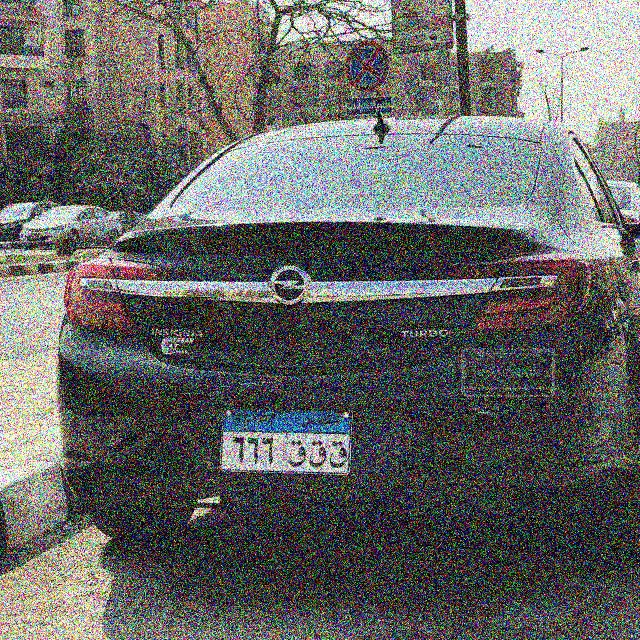License Plate: (211, 399, 360, 485)
